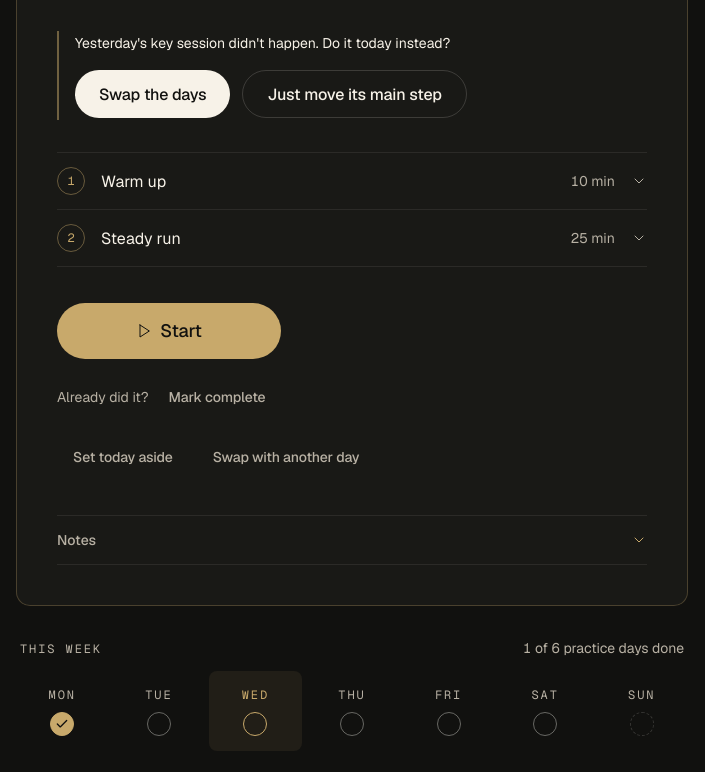
Test: Today: swap offer, set today aside, swap with another day (missed sessions M3.3) › swap offer › belongs to Today's view of today only
The width and height of the screenshot is (705, 772).
(page scrolled)
Expected: the button "Swap the days" is shown, [75, 70, 230, 118]
What coordinates should you click on to do the following:
click the button "Thu "
I would click on:
 (352, 712)
Its box is [306, 672, 398, 752].
(page scrolled)
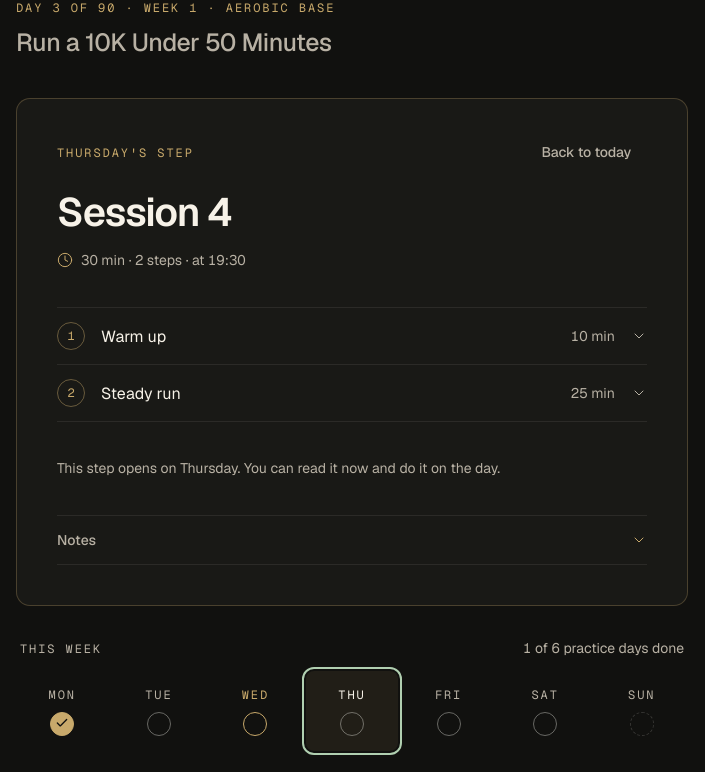
Now the button "Swap the days" is gone
Now the button "Just move its main step" is gone
Now the button "Set today aside" is gone
